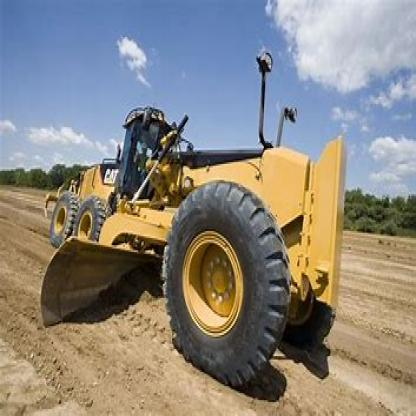bull_dozer/loader/grader: (29, 90, 350, 381)
